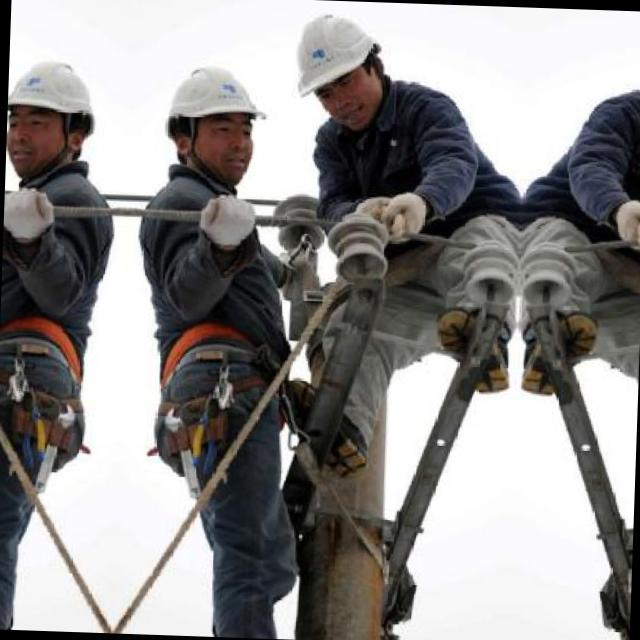helmet: (150, 37, 274, 189), (280, 3, 403, 132), (4, 32, 108, 184)
